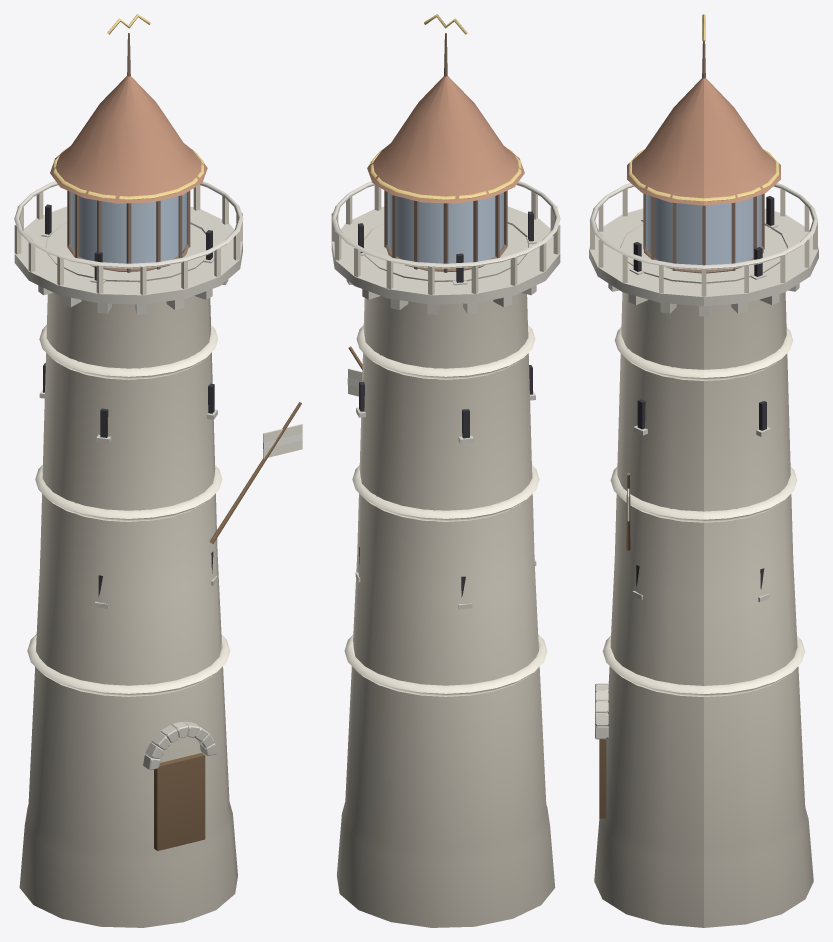
File: wachturm_marine.glb
3 renders of one model, left to right at view 1: azimuth 30°, elevation 25°; view 2: azimuth 150°, elevation 25°; view 3: azimuth 270°, elevation 25°, orthographic.
Visible parts, largest first — view 1: G_wachturm_marine; view 2: G_wachturm_marine; view 3: G_wachturm_marine.
Part boxes in pixels (x1,y1,x2,y2): G_wachturm_marine: [14, 14, 302, 927]; G_wachturm_marine: [331, 14, 560, 927]; G_wachturm_marine: [589, 14, 818, 927].
Size of the model in its own units: 7.9 by 27.75 by 6.7.
